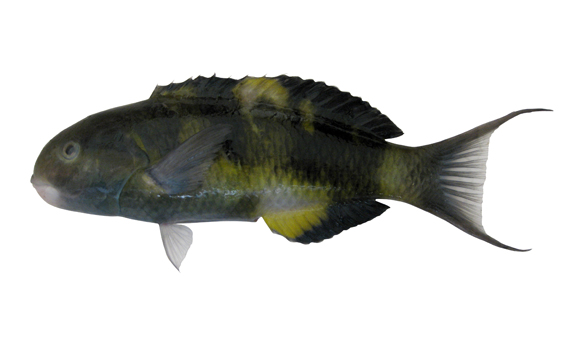fish: (31, 74, 555, 272)
